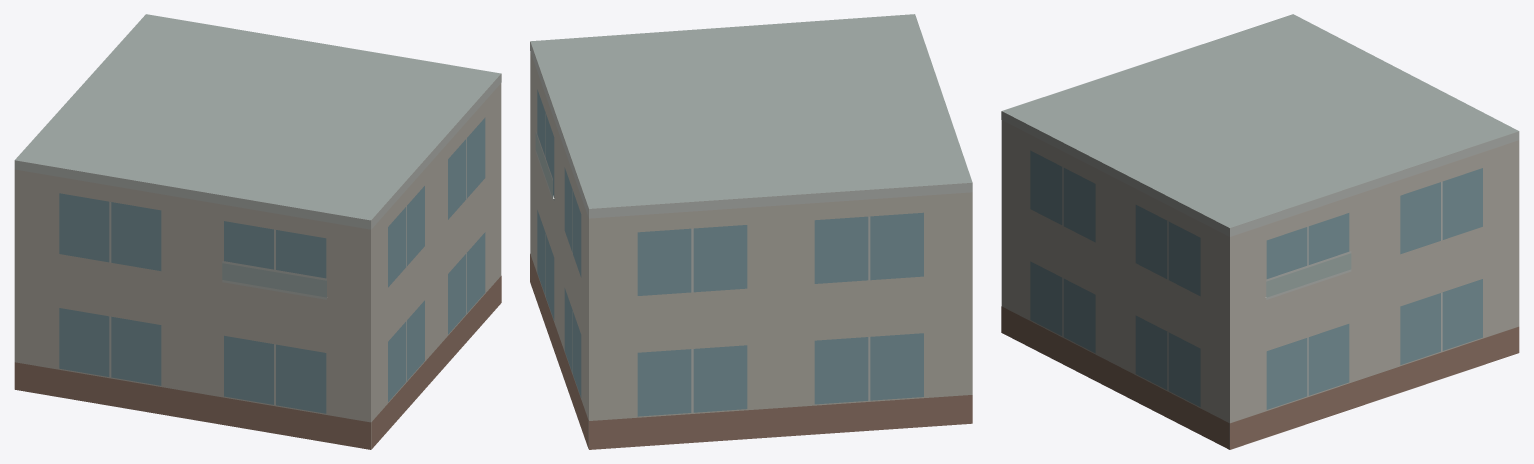
The model's file is survey-upis-32731767.glb.
3 views of the same model, side by side, from view 1: azimuth 30°, elevation 25°; view 2: azimuth 150°, elevation 25°; view 3: azimuth 270°, elevation 25° (orthographic). The views are drawn at different scales.
Parts seen in each view (by area): view 1: survey-upis-32731767.tmp; view 2: survey-upis-32731767.tmp; view 3: survey-upis-32731767.tmp.
Boxes of the visible parts, bbox=[...] form: survey-upis-32731767.tmp: bbox=[14, 14, 501, 449]; survey-upis-32731767.tmp: bbox=[530, 14, 972, 449]; survey-upis-32731767.tmp: bbox=[1001, 14, 1519, 449].
Size of the model in its own units: 12.65 by 6.1 by 12.92.
